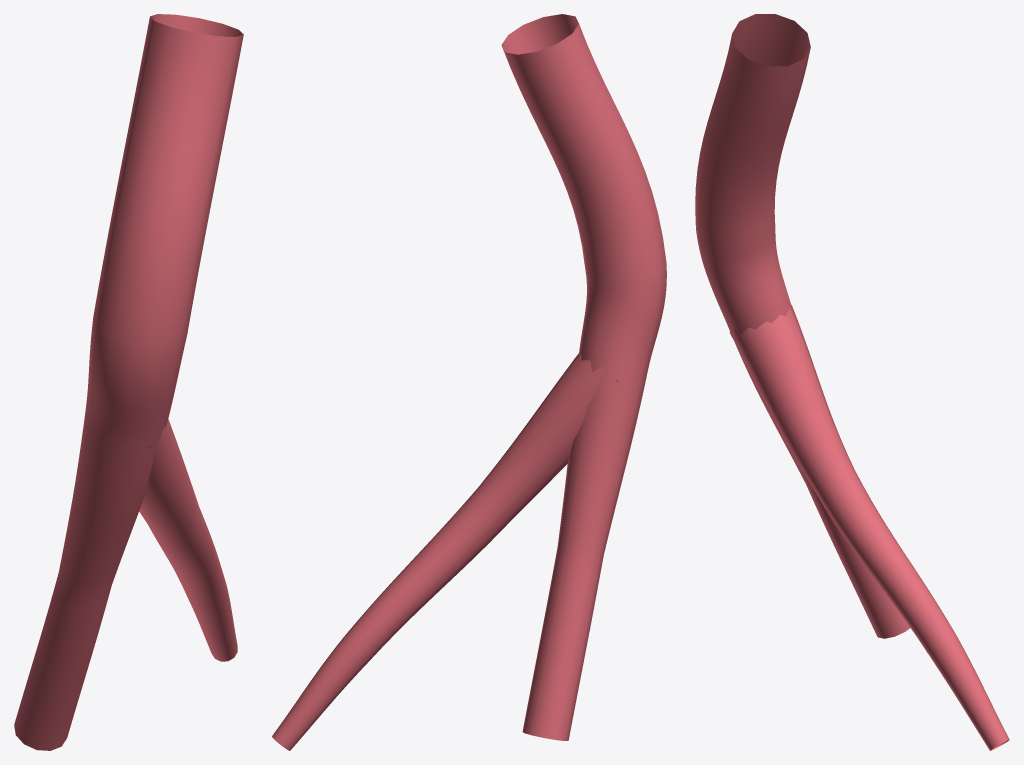
3 views of the same model, side by side, from view 1: azimuth 30°, elevation 25°; view 2: azimuth 150°, elevation 25°; view 3: azimuth 270°, elevation 25° (orthographic). The views are drawn at different scales.
Visible parts, largest first — view 1: ZA_c87730eefc5aa04a; view 2: ZA_c87730eefc5aa04a; view 3: ZA_c87730eefc5aa04a.
Part boxes in pixels (x1=…): ZA_c87730eefc5aa04a: x1=14, y1=14, x2=243, y2=750; ZA_c87730eefc5aa04a: x1=272, y1=14, x2=666, y2=750; ZA_c87730eefc5aa04a: x1=695, y1=14, x2=1009, y2=750.
Size of the model in its own units: 0.0249 by 0.0635 by 0.0276.
